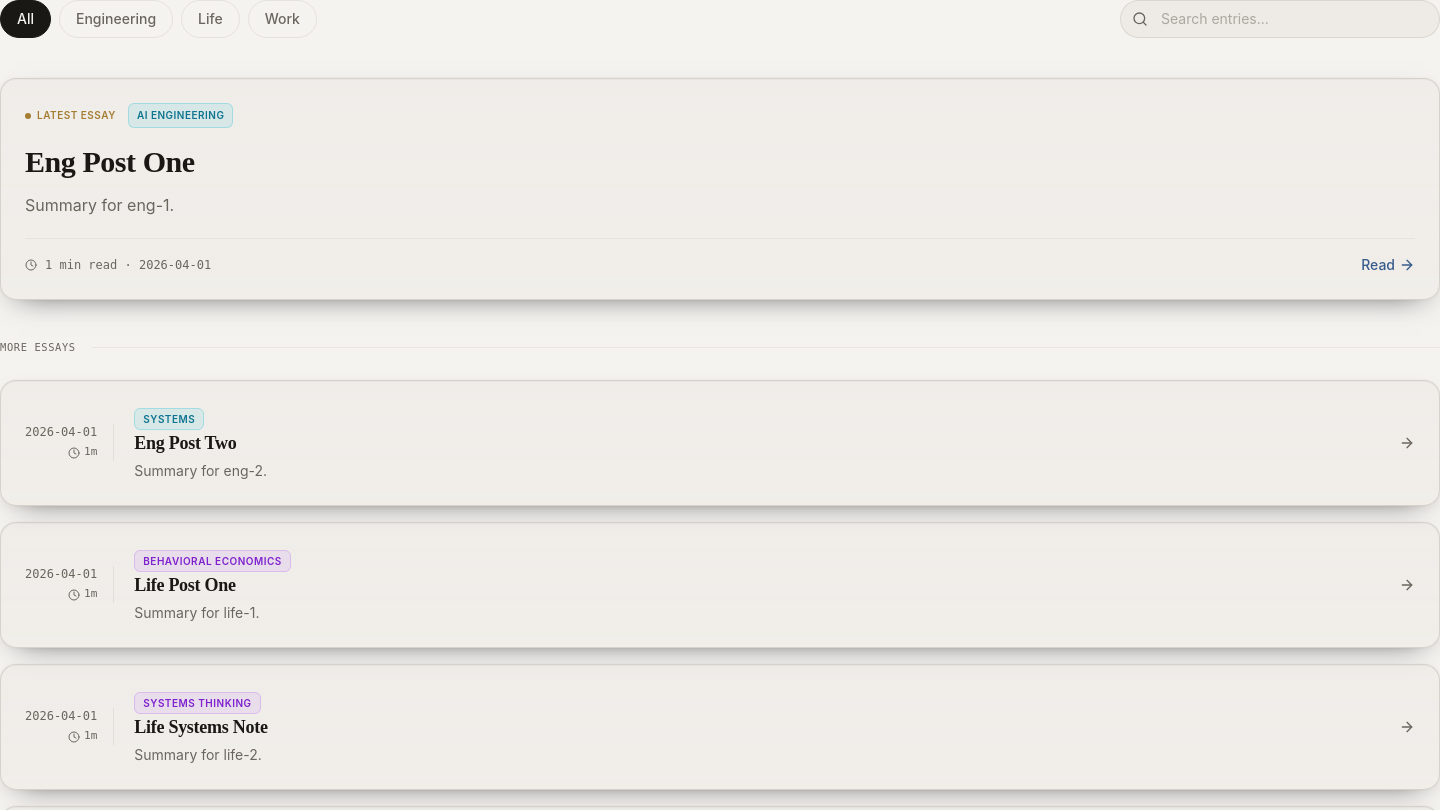
JournalList — filters derived from content (no dead pills) › Engineering filter includes the normalised "AI Engineering" oddball
Click the button "Engineering": (116, 19) [59,0,173,38]
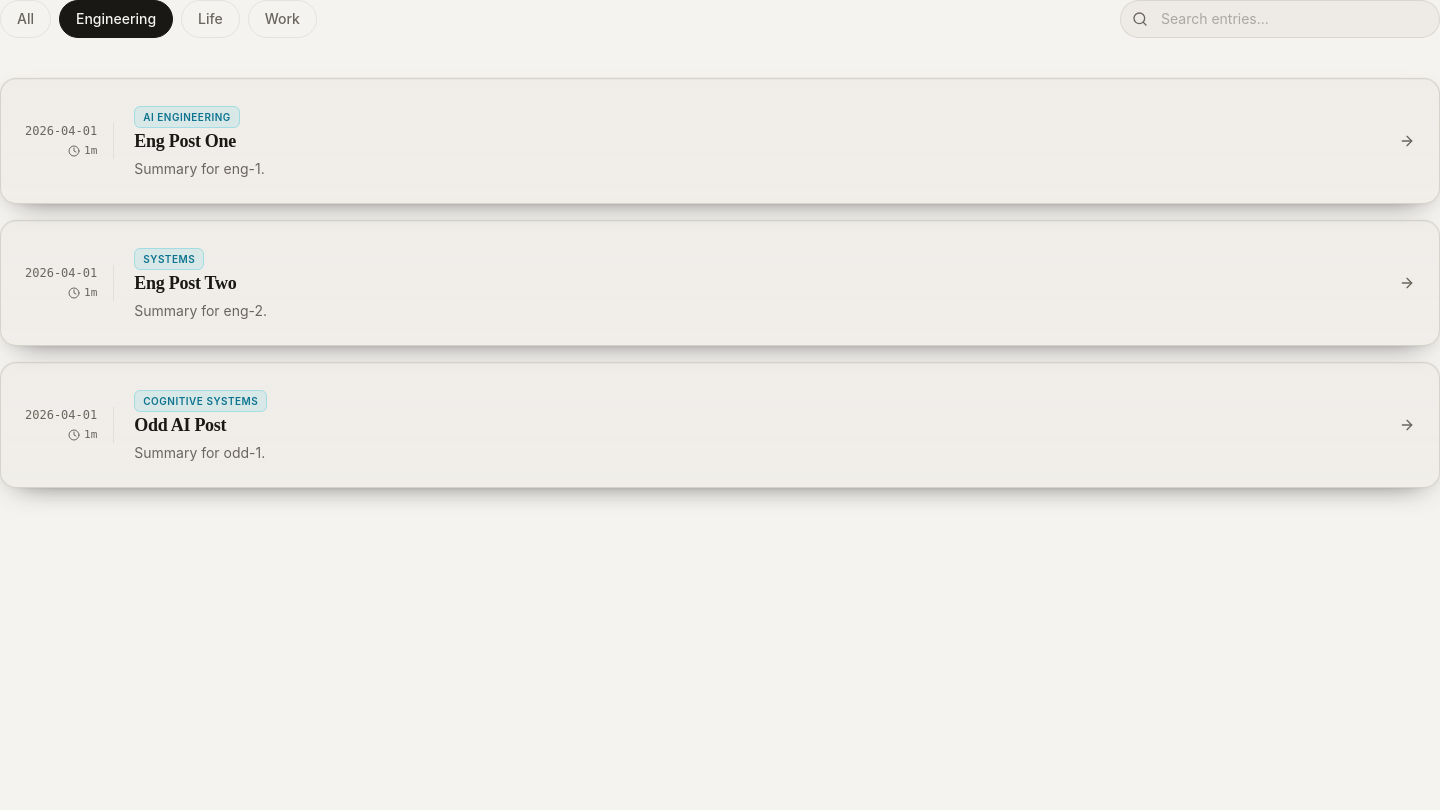
Expected: the heading "Odd AI Post" is shown, [134,415,226,435]
Expected: the link "Life Post One" is gone
